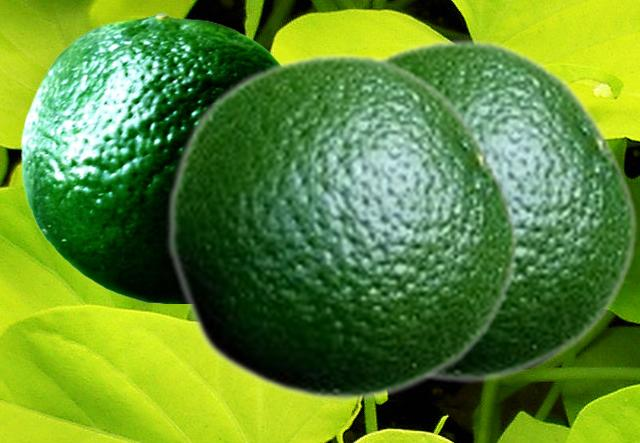calamansi: (165, 51, 519, 403), (372, 37, 638, 384), (21, 12, 279, 302)
